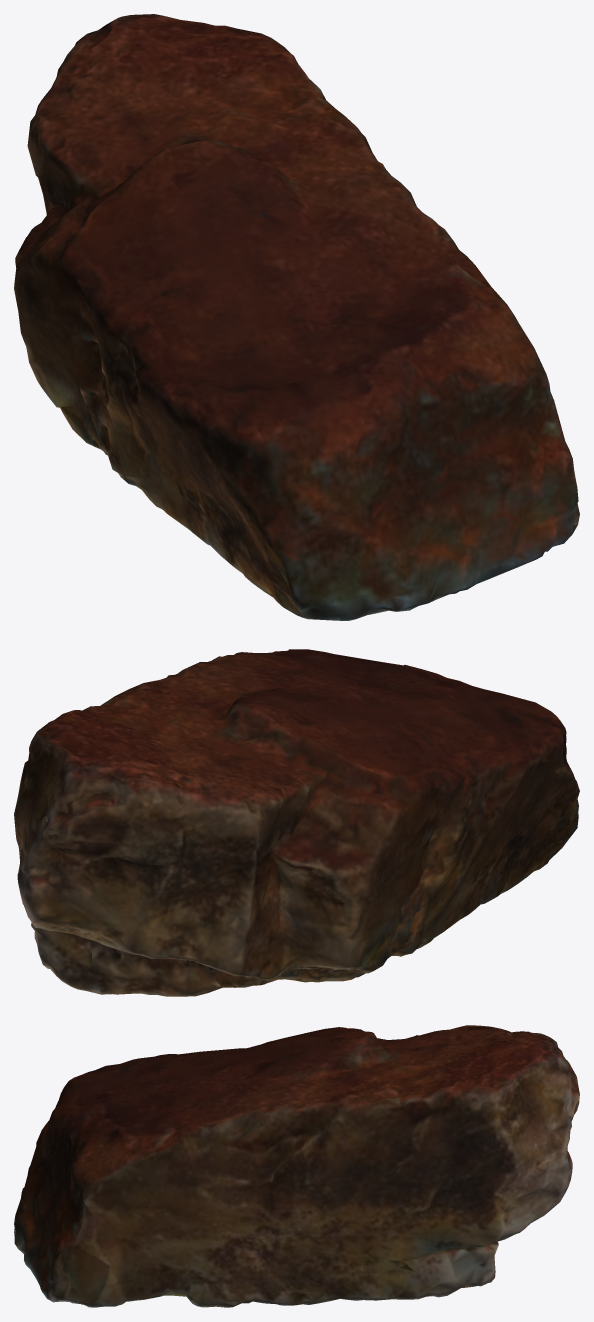
File: rock_07.glb
The picture shows the model from 3 angles, top to bottom: view 1: azimuth 30°, elevation 25°; view 2: azimuth 150°, elevation 25°; view 3: azimuth 270°, elevation 25°; orthographic projection. The views are drawn at different scales.
Bounding box in the file's own units: 0.1689 × 0.1437 × 0.3202.
1 material, 1 textured.
